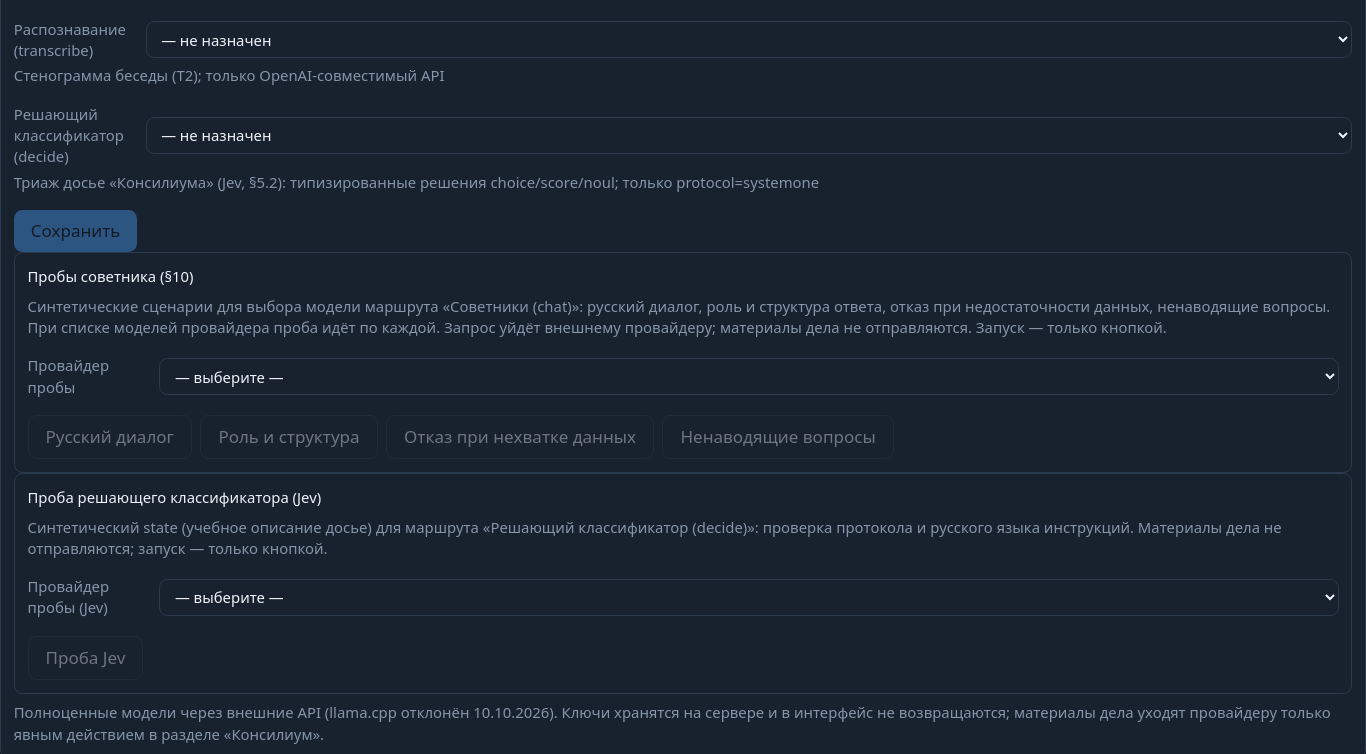
Test case: панель «Модельный роутер ИИ» › проба решающего классификатора: ошибка провайдера показывается честно
The width and height of the screenshot is (1366, 754).
(page scrolled)
Select "Полная модель" in the dropdown labelled "Провайдер пробы (Jev)" at [749, 597], box x1=159 y1=579 x2=1339 y2=616
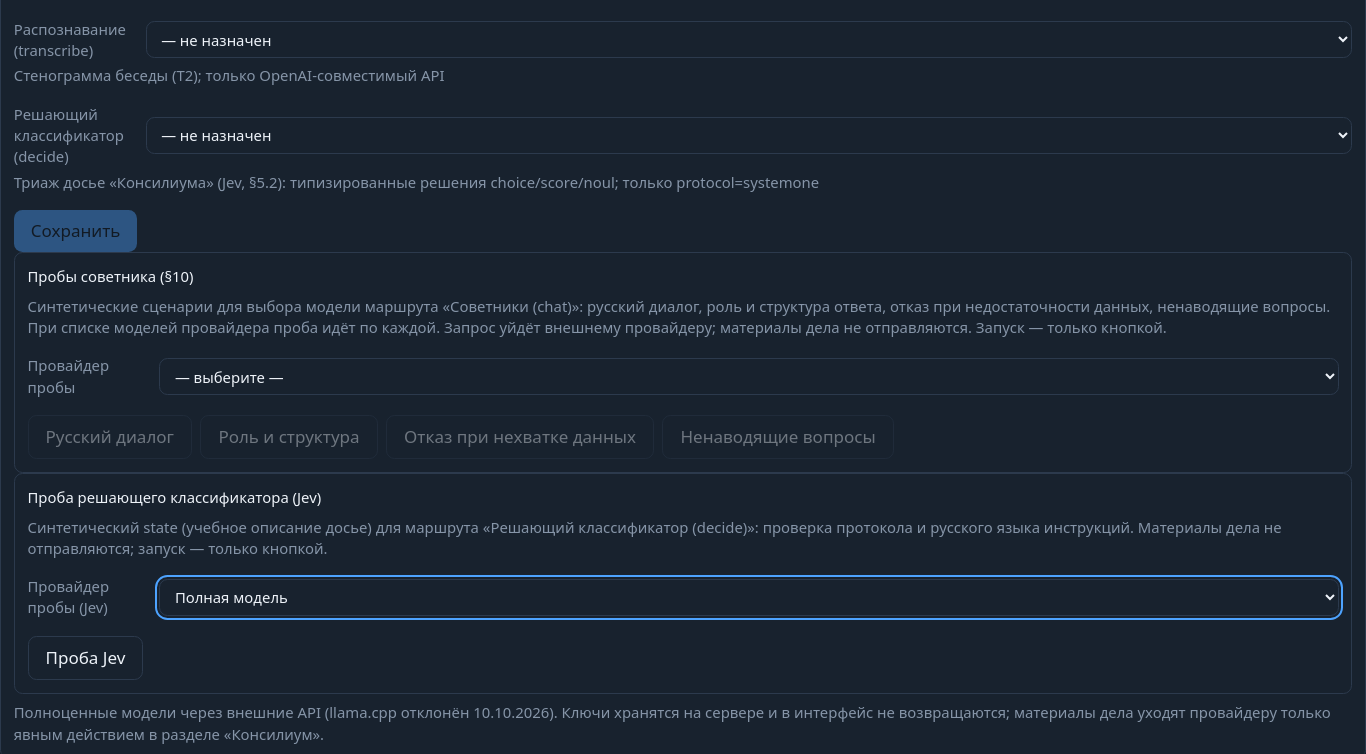
Click the button "Проба Jev" at [85, 658], box x1=28 y1=636 x2=143 y2=680
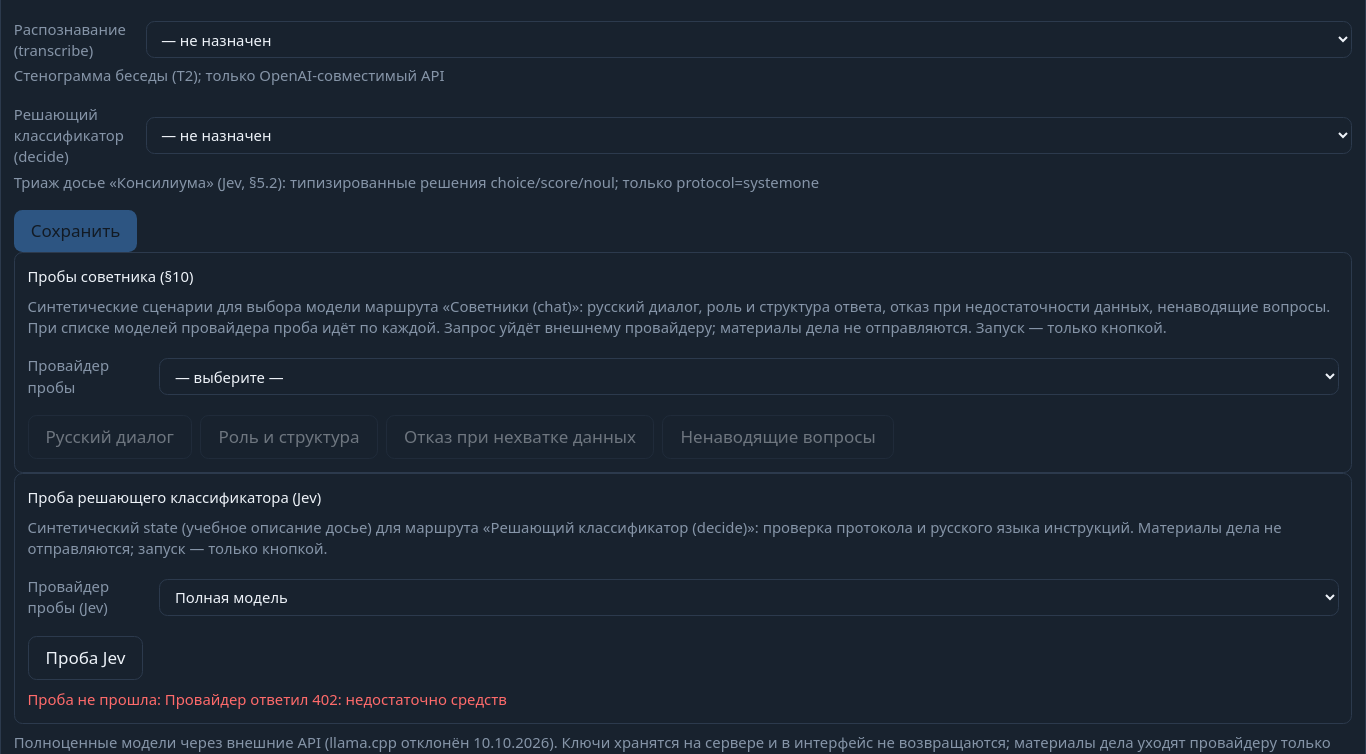
Check: the text "Проба не прошла: Провайдер ответил 402: недостаточно средств" is shown, box x1=28 y1=688 x2=507 y2=708
